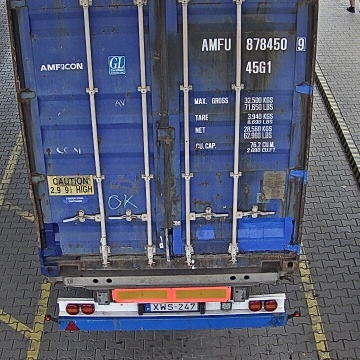serial_id: (202, 37, 306, 50)
